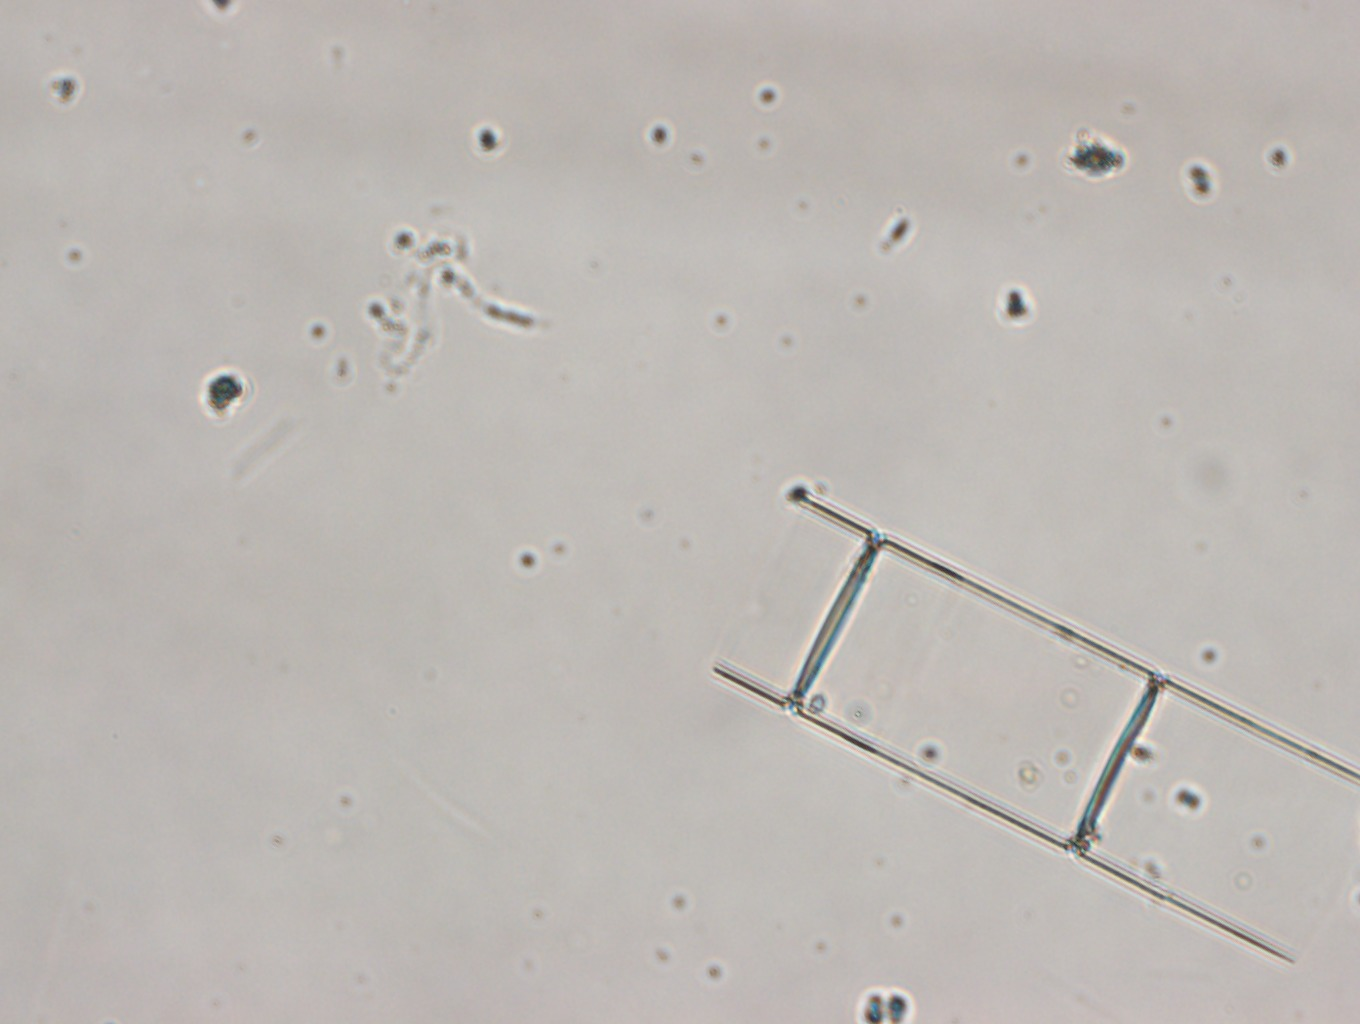guinardia flaccida: (712, 494, 1360, 962)
